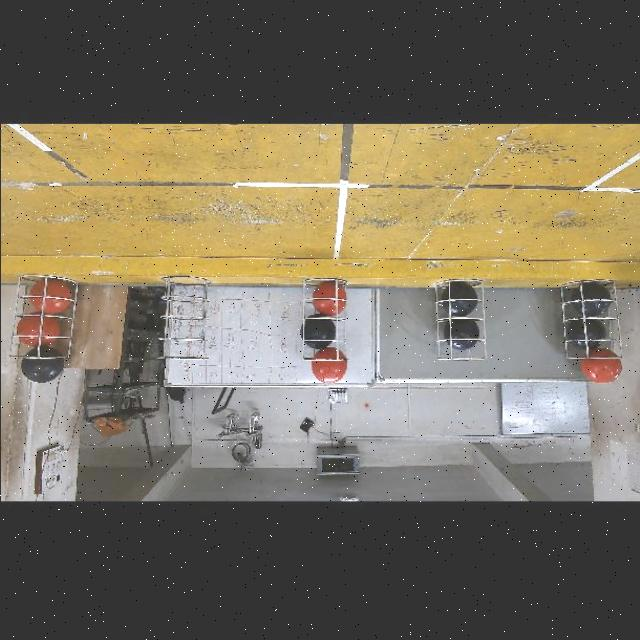P: (20, 344, 63, 382), (568, 281, 609, 317), (440, 280, 476, 315), (299, 314, 335, 348), (567, 318, 606, 349), (442, 317, 479, 348)
R: (28, 277, 70, 313), (15, 312, 60, 345), (580, 347, 621, 382), (310, 345, 346, 382), (311, 280, 345, 315)
S: (6, 272, 78, 358), (560, 276, 622, 362), (155, 274, 213, 360), (432, 277, 488, 359), (301, 276, 347, 360)
